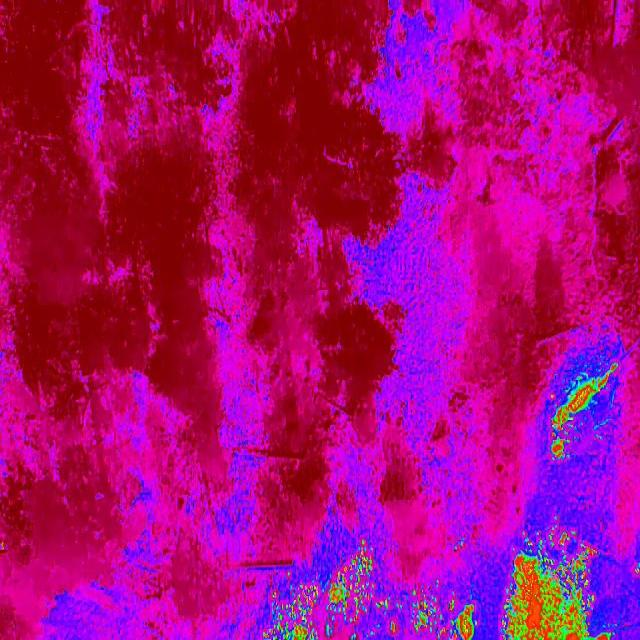fire: (491, 516, 616, 640), (259, 544, 401, 640), (542, 356, 630, 470), (402, 576, 479, 640), (452, 536, 469, 555), (631, 562, 640, 579)
